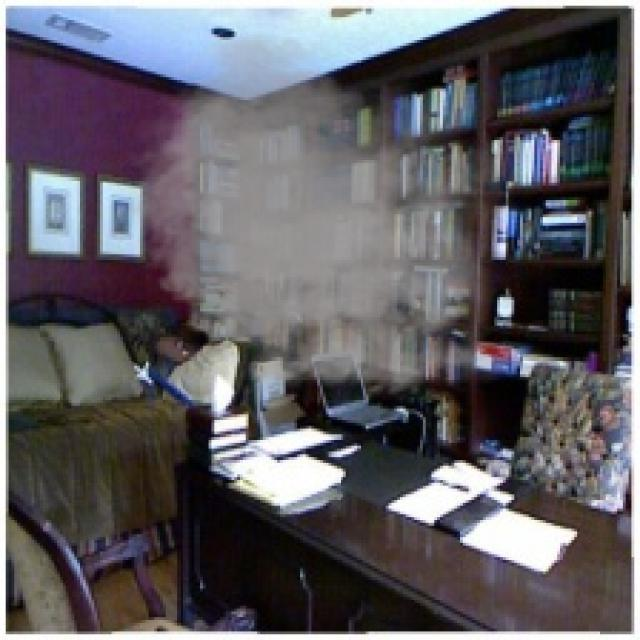Smoke: (108, 19, 526, 414)
